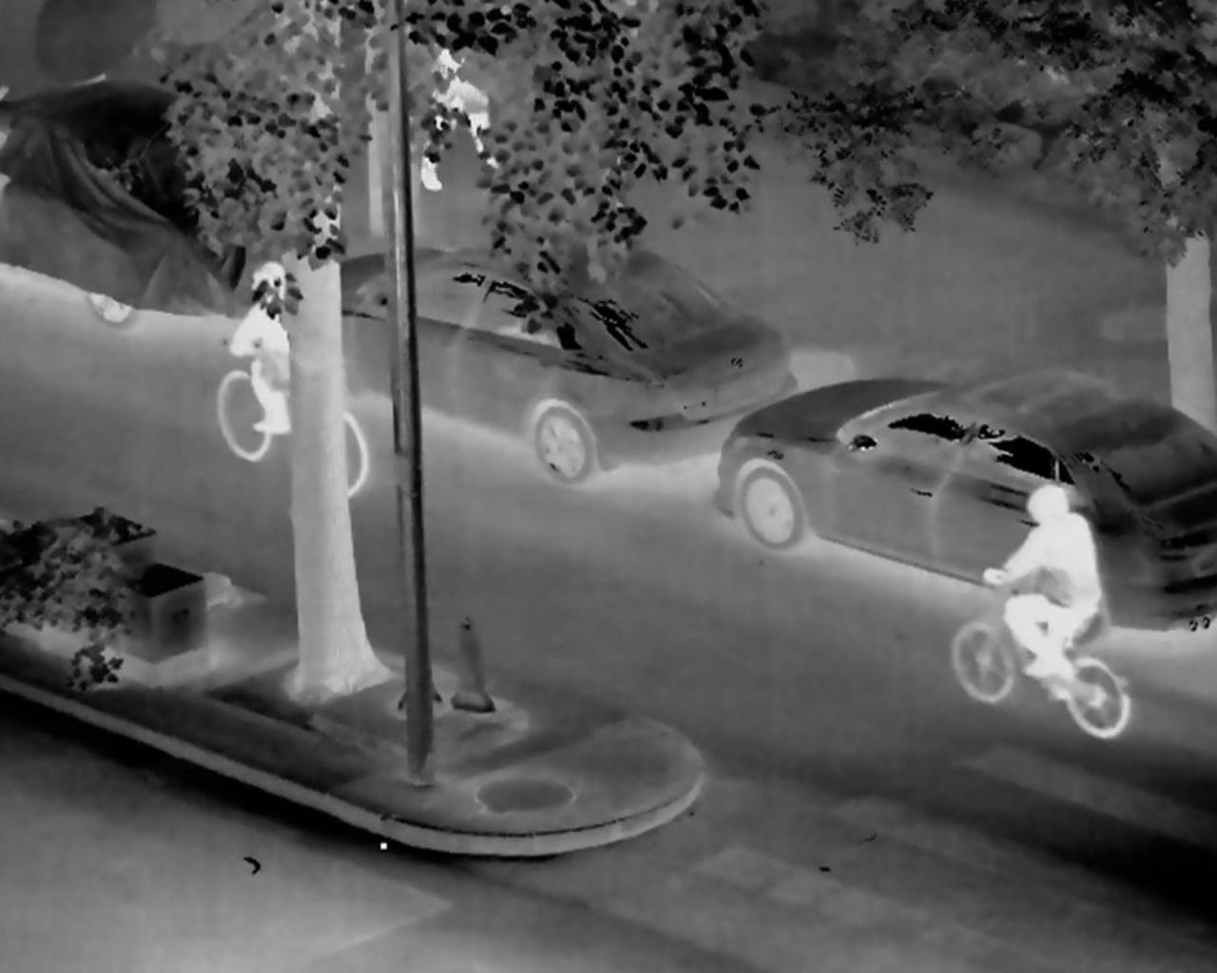person: (957, 472, 1116, 740), (221, 266, 324, 469), (415, 23, 520, 203)
